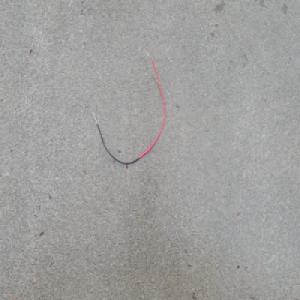Wire: (91, 48, 167, 167)
